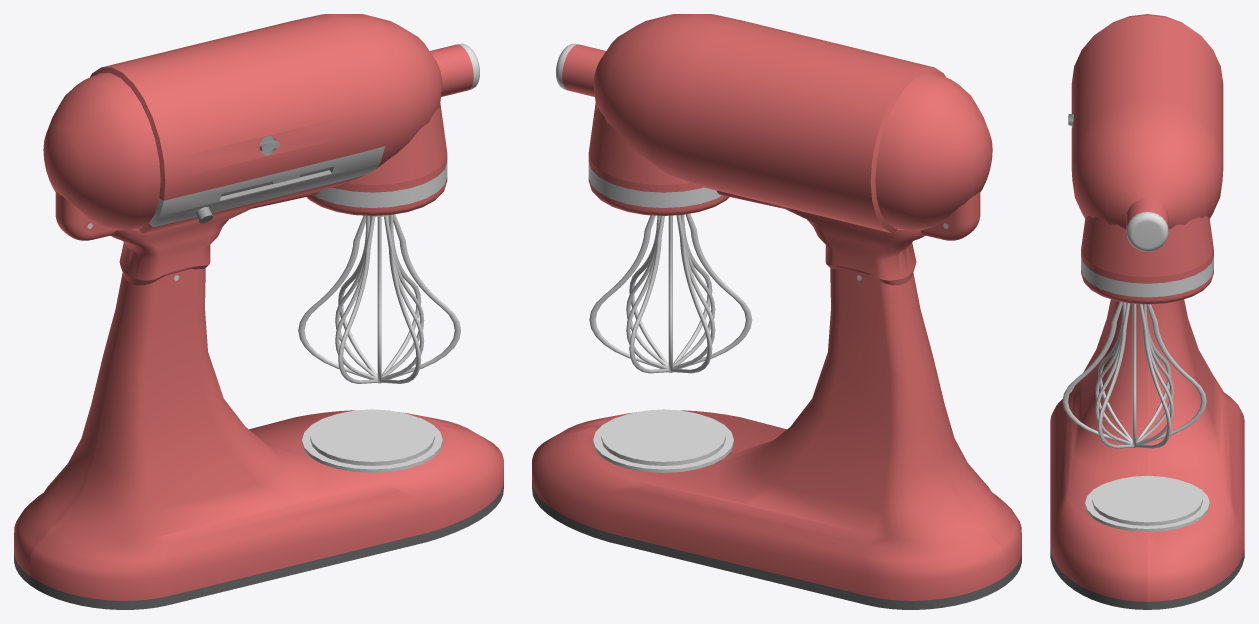
File: batidora siin tasa.fbx
3 renders of one model, left to right at view 1: azimuth 30°, elevation 25°; view 2: azimuth 150°, elevation 25°; view 3: azimuth 270°, elevation 25°, orthographic. The views are drawn at different scales.
Visible parts, largest first — view 1: batidora sin tasa; view 2: batidora sin tasa; view 3: batidora sin tasa.
Part boxes in pixels (x1,y1,x2,y2): batidora sin tasa: (14, 14, 503, 609); batidora sin tasa: (532, 14, 1021, 609); batidora sin tasa: (1050, 14, 1244, 609).
Bounding box in the file's own units: 53.11 × 53.77 × 21.77.
